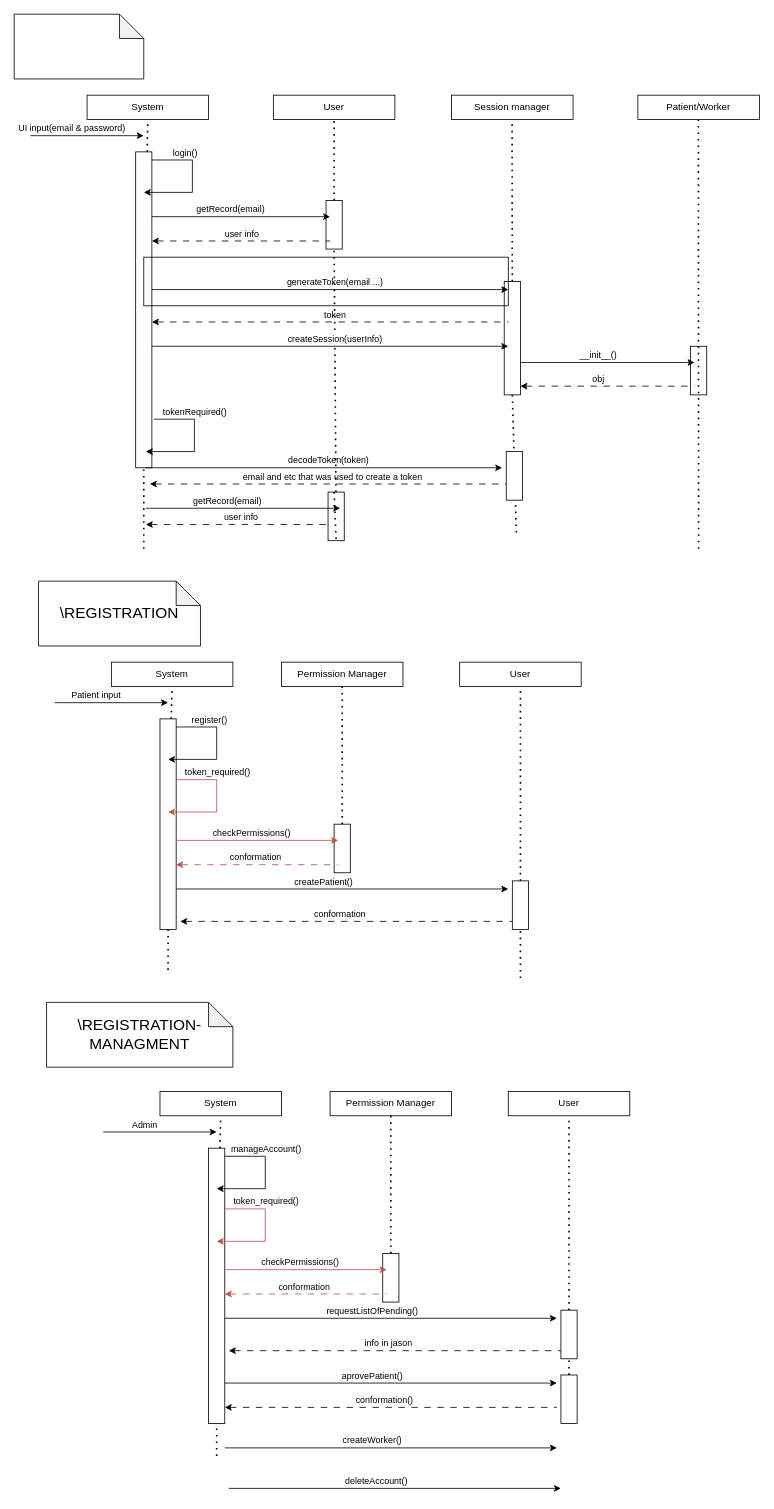
Some shapes in this 774 by 1509 pixel diagram are drawn without their labels. Here are the shapes that lost their labels. From the top down, the centre of each, then its label:
At point (78, 46): "\LOGIN".
At point (325, 281): "if password is corrrect".
